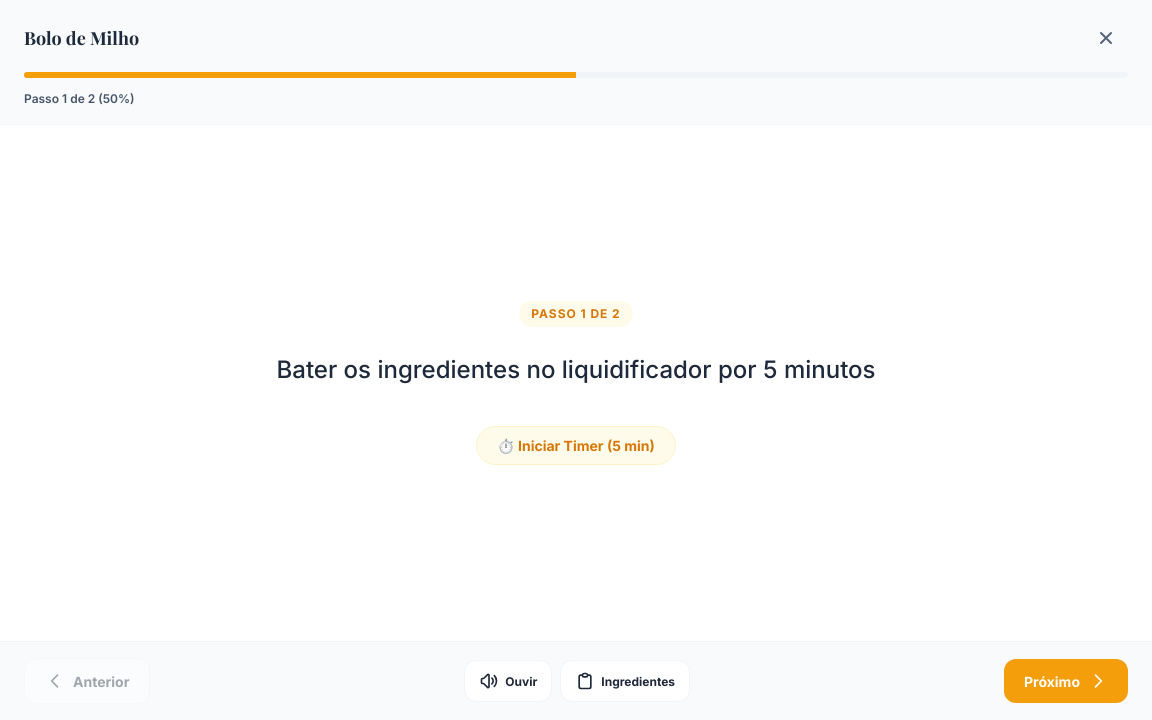
Test case: CookingMode component › renderiza o primeiro passo e navega para o proximo
Check: the text "Bater os ingredientes no liquidificador por 5 minutos" is shown, box [236,351,916,390]
Check: the button "⏱️ Iniciar Timer (5 min)" is shown, box [476,426,676,465]
Click the button with aria-label "Próximo Passo" at (1066, 681), box [1004,659,1128,703]
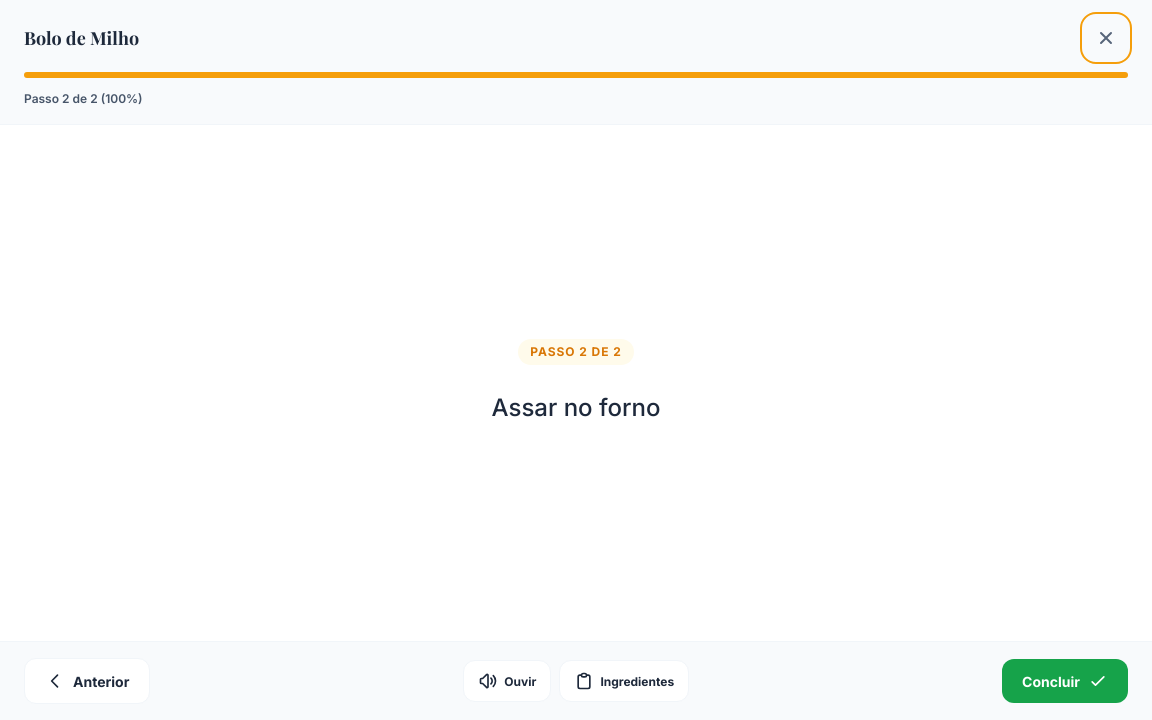
Check: the text "Assar no forno" is shown, box [492,393,660,422]
